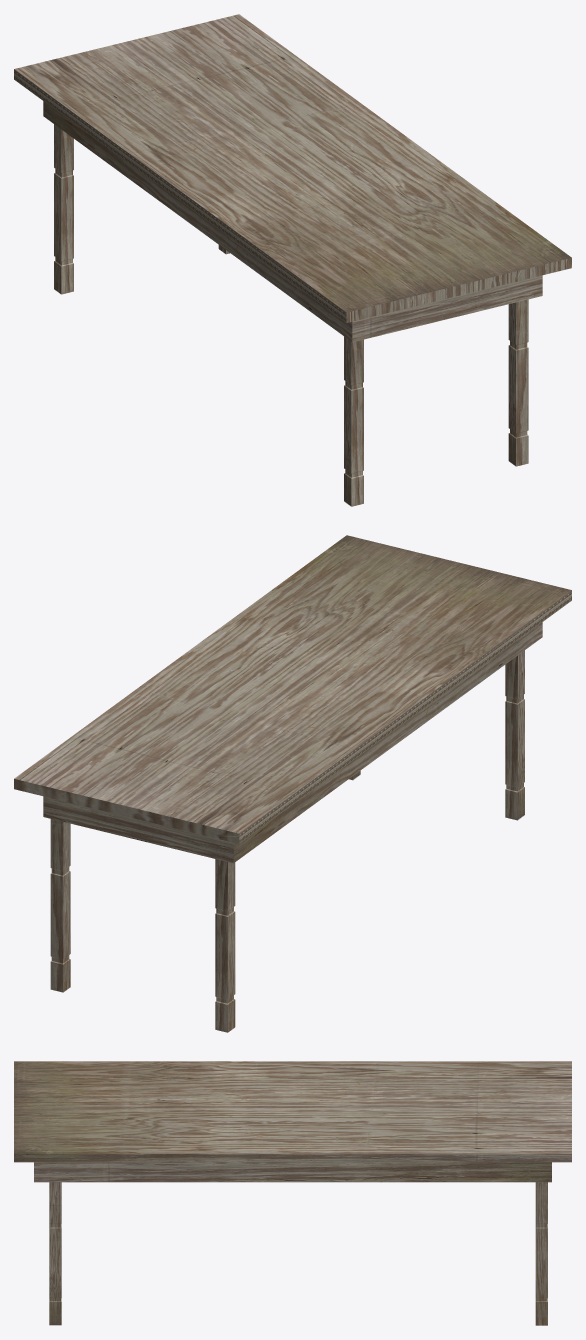
Rendered from Tables.fbx.
3 renders of one model, top to bottom at view 1: azimuth 30°, elevation 25°; view 2: azimuth 150°, elevation 25°; view 3: azimuth 270°, elevation 25°, orthographic. The views are drawn at different scales.
Parts seen in each view (by area): view 1: polySurface1; view 2: polySurface1; view 3: polySurface1.
Boxes of the visible parts, x1=… form: polySurface1: x1=14, y1=14, x2=571, y2=506; polySurface1: x1=14, y1=535, x2=571, y2=1032; polySurface1: x1=14, y1=1061, x2=571, y2=1325.
Size of the model in its own units: 203 by 186 by 519.
